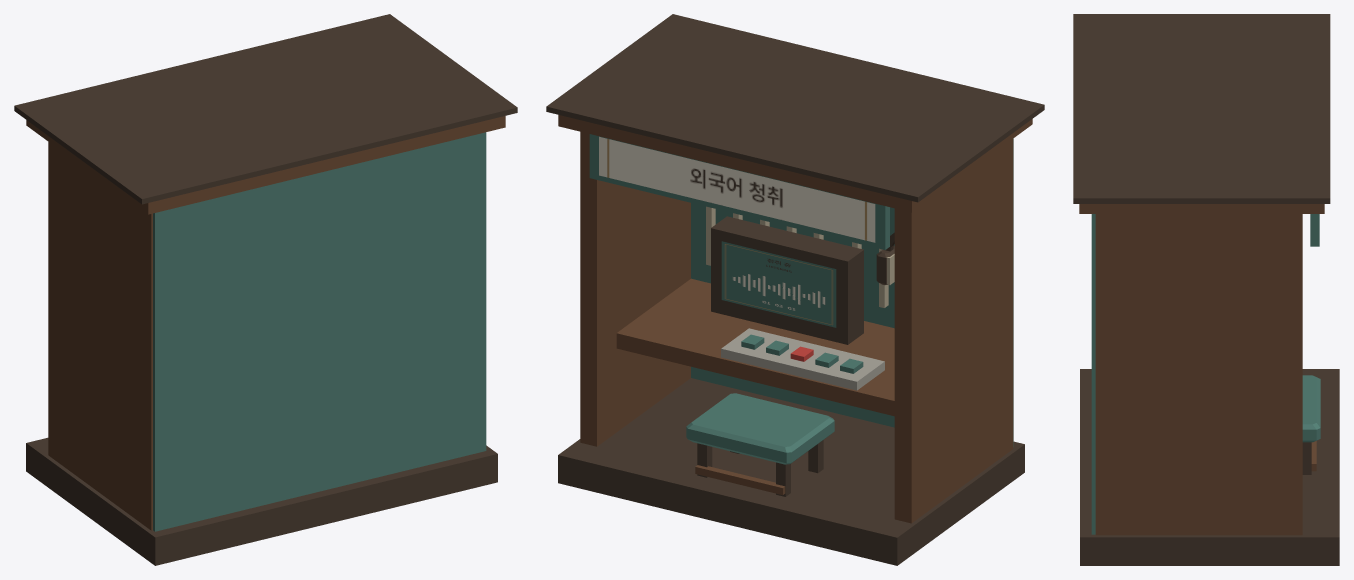
Rendered from N10_Language_Listening_Booth.fbx.
The picture shows the model from 3 angles, left to right: view 1: azimuth 30°, elevation 25°; view 2: azimuth 150°, elevation 25°; view 3: azimuth 270°, elevation 25°; orthographic projection.
Parts seen in each view (by area): view 1: Structure; view 2: Structure, Stool, Screen, Headphones; view 3: Structure, Stool.
Part boxes in pixels (x1=…): Structure: x1=14, y1=14, x2=517, y2=565; Structure: x1=546, y1=14, x2=1044, y2=565; Stool: x1=686, y1=393, x2=834, y2=496; Screen: x1=721, y1=241, x2=836, y2=327; Headphones: x1=876, y1=232, x2=894, y2=285; Structure: x1=1073, y1=14, x2=1339, y2=565; Stool: x1=1302, y1=375, x2=1320, y2=474.
Bounding box in the file's own units: 3.31 × 3.14 × 2.02.
Materials: 7 (1 with a texture image).
